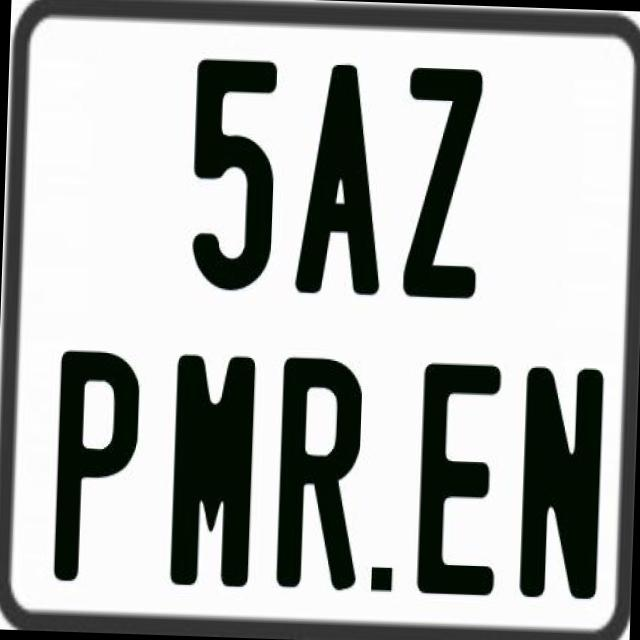5: (188, 55, 276, 298)
A: (293, 60, 392, 298)
E: (414, 359, 502, 597)
M: (169, 350, 255, 590)
N: (519, 366, 609, 598)
P: (54, 347, 140, 582)
R: (273, 355, 368, 595)
Z: (402, 67, 488, 307)
